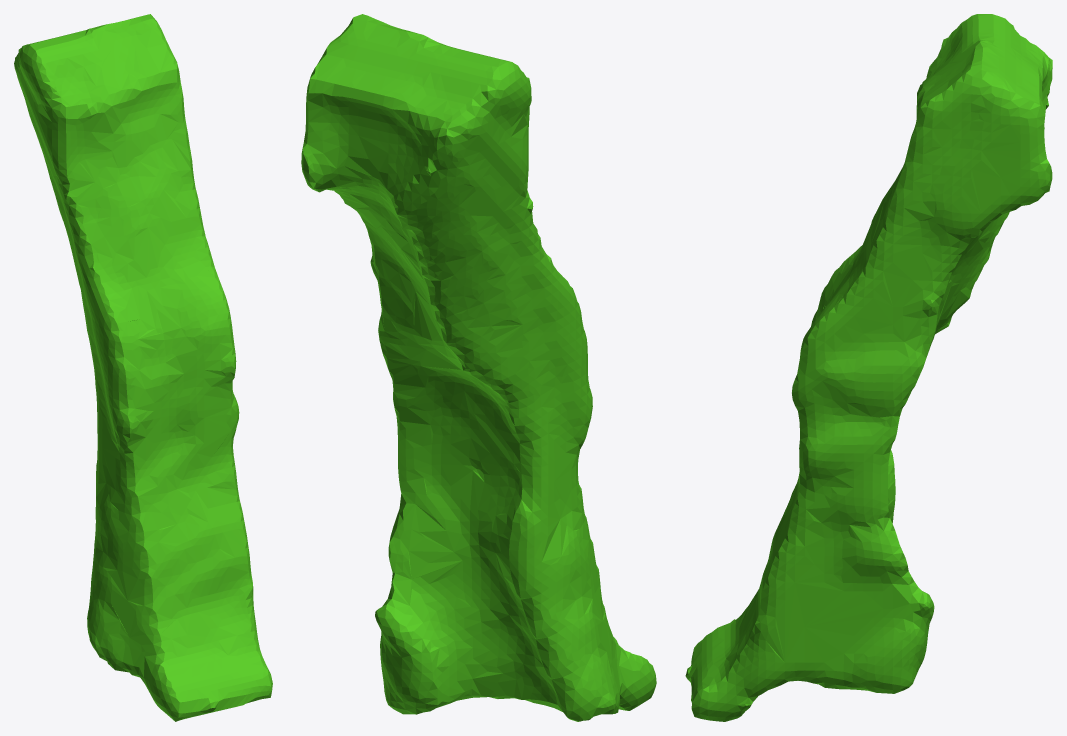
File: Model_10058_LH__Area_24b_of_cortex_(A24b).obj
The picture shows the model from 3 angles, left to right: view 1: azimuth 30°, elevation 25°; view 2: azimuth 150°, elevation 25°; view 3: azimuth 270°, elevation 25°; orthographic projection. The views are drawn at different scales.
Bounding box in the file's own units: 1.86 × 7.4 × 3.75.
